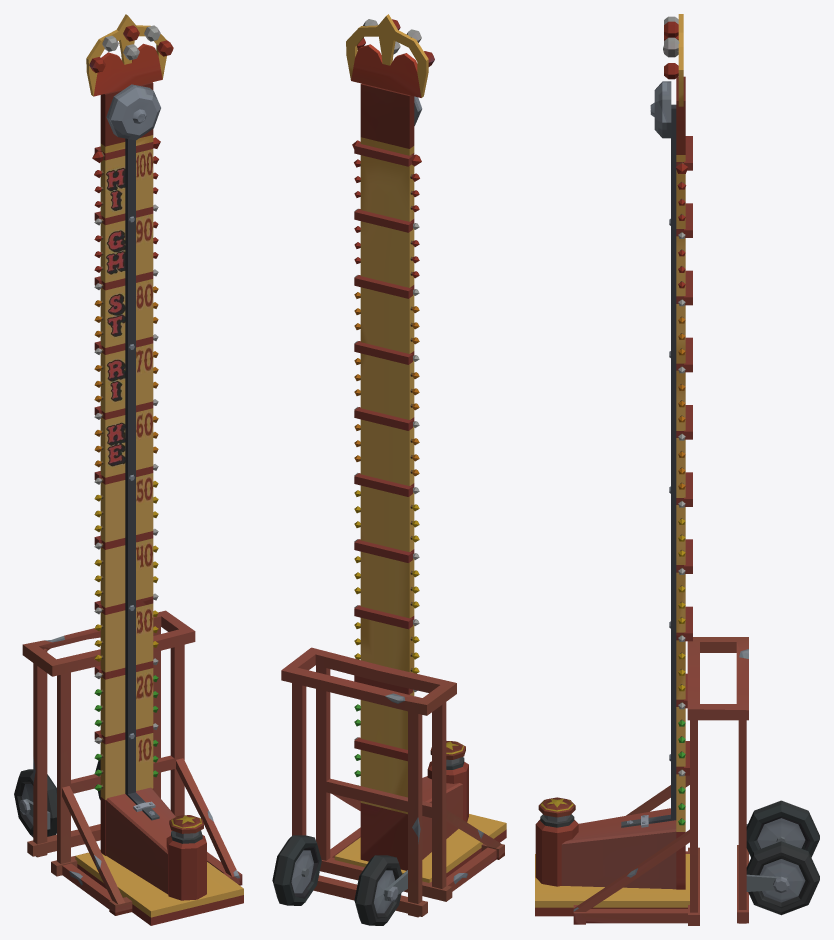
The model's file is high-striker.glb.
3 renders of one model, left to right at view 1: azimuth 30°, elevation 25°; view 2: azimuth 150°, elevation 25°; view 3: azimuth 270°, elevation 25°, orthographic. The views are drawn at different scales.
Parts seen in each view (by area): view 1: SM_Prop_High_Striker_01; view 2: SM_Prop_High_Striker_01; view 3: SM_Prop_High_Striker_01.
Part boxes in pixels (x1,y1,x2,y2): SM_Prop_High_Striker_01: (14,14,243,925); SM_Prop_High_Striker_01: (272,14,506,925); SM_Prop_High_Striker_01: (535,14,819,925).
Bounding box in the file's own units: 115 × 654 × 192.
Materials: 1 (1 with a texture image).
